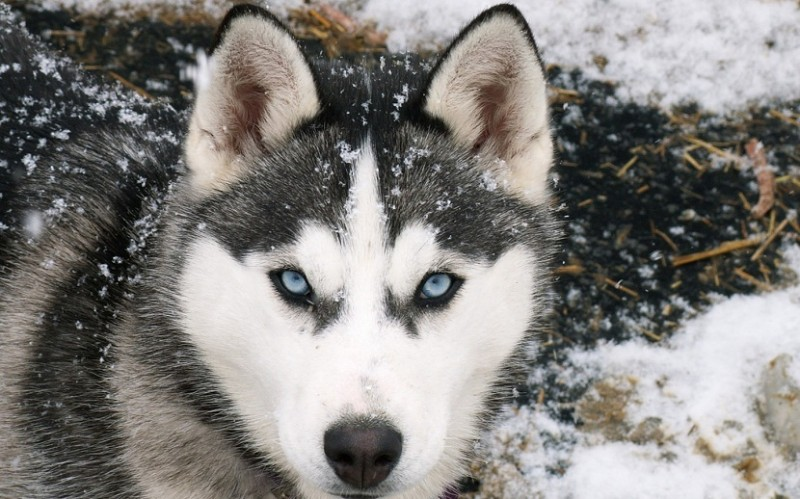husky: (148, 5, 578, 494)
